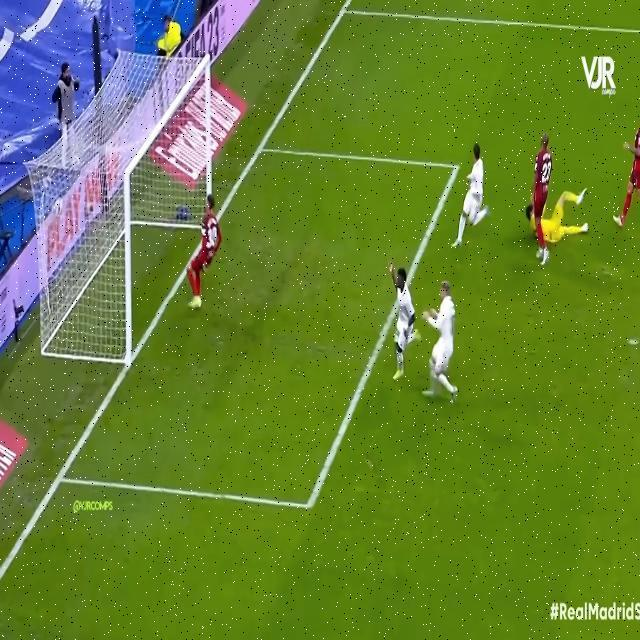goalkeeper: (533, 188, 615, 242)
player: (423, 241, 480, 435), (175, 179, 231, 325), (373, 228, 423, 386), (448, 138, 512, 248), (621, 106, 640, 233), (534, 139, 549, 285)
